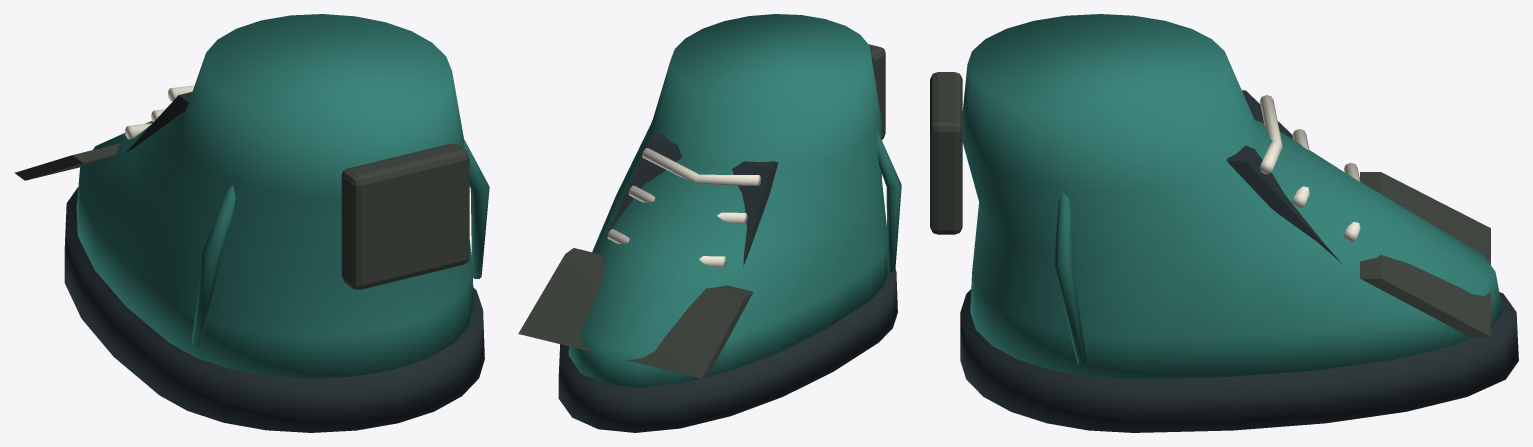
File: CharBoot.glb
3 renders of one model, left to right at view 1: azimuth 30°, elevation 25°; view 2: azimuth 150°, elevation 25°; view 3: azimuth 270°, elevation 25°, orthographic. The views are drawn at different scales.
Visible parts, largest first — view 1: CharBoot; view 2: CharBoot; view 3: CharBoot.
Boxes of the visible parts, <box> form: CharBoot: <box>15,14,489,432</box>; CharBoot: <box>518,14,901,432</box>; CharBoot: <box>930,14,1518,432</box>.
Size of the model in its own units: 0.146 by 0.14 by 0.252.
